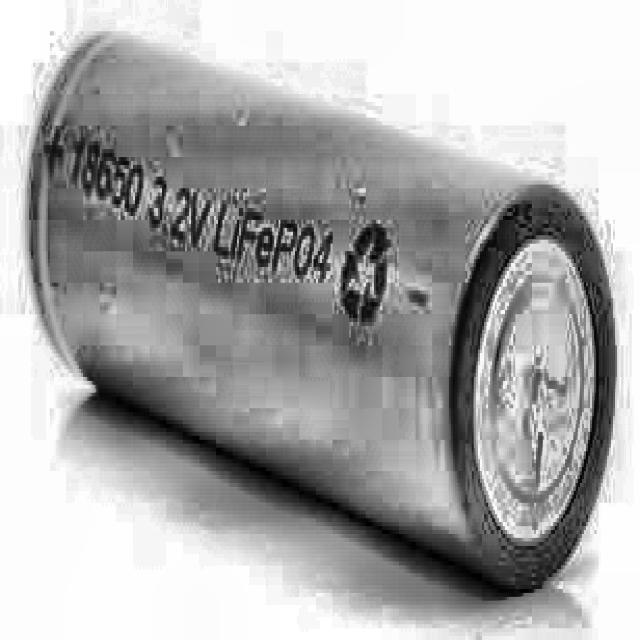Battery: (27, 31, 615, 589)
